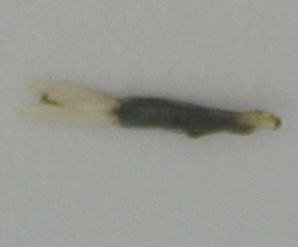เมล็ดงอกแตก: (19, 77, 282, 143)
